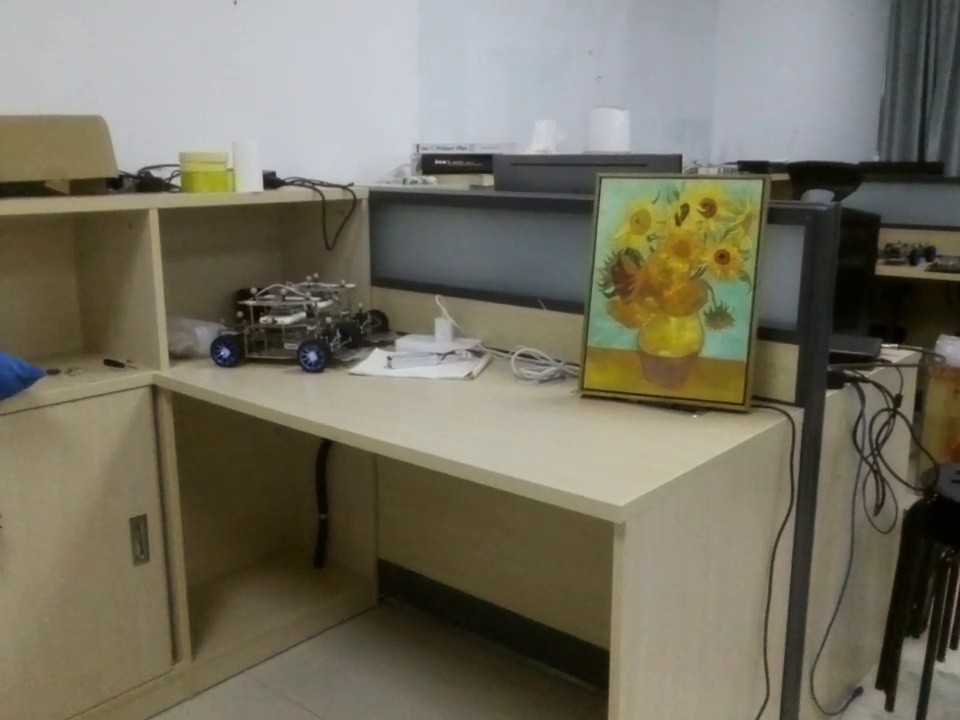painting: (584, 173, 769, 407)
